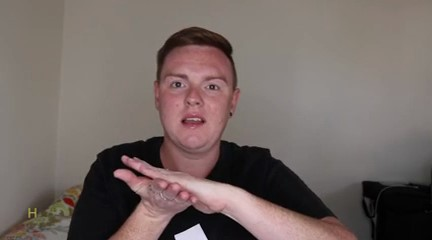H: (112, 149, 234, 227)
